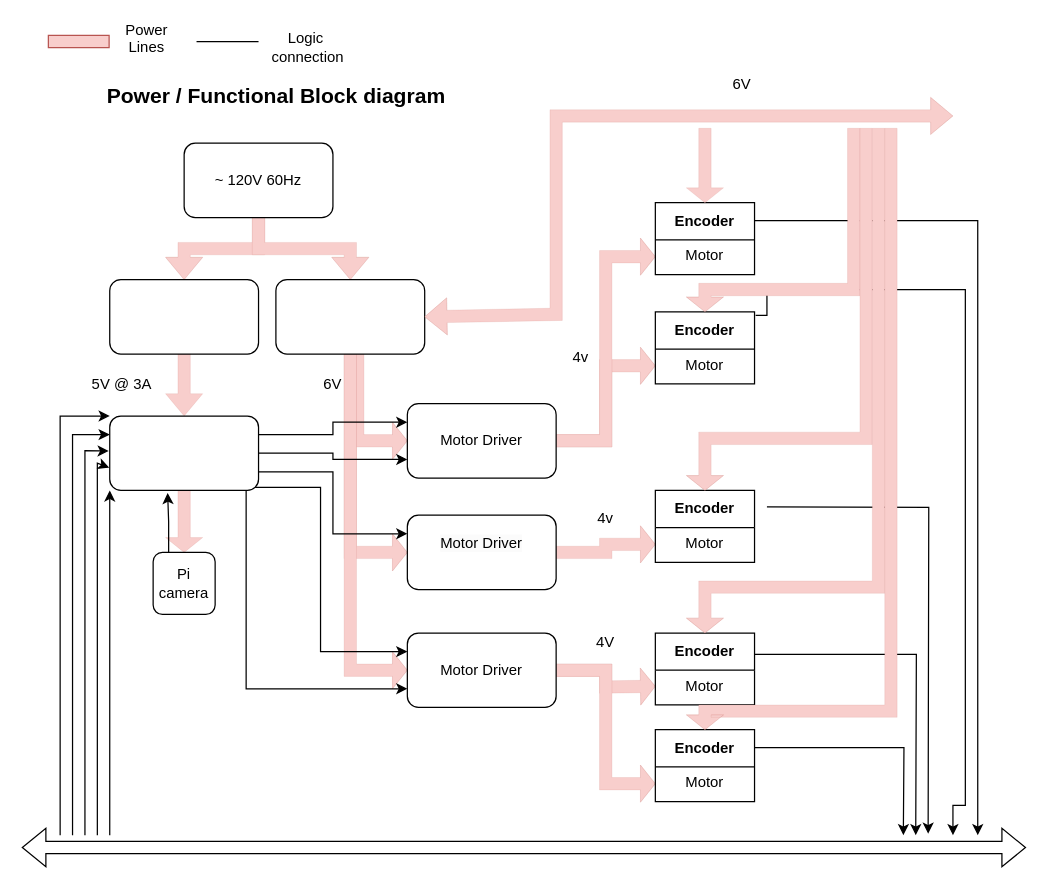
This 1047x889 diagram has some shape labels left out. Here are the shapes that lost their labels. From the top down, the box of each, then its label:
(108, 278, 259, 354): Raspberry Pi Power supply
(275, 278, 425, 354): Adjustable power Supply 2A
(108, 415, 259, 490): Raspberry Pi 4
